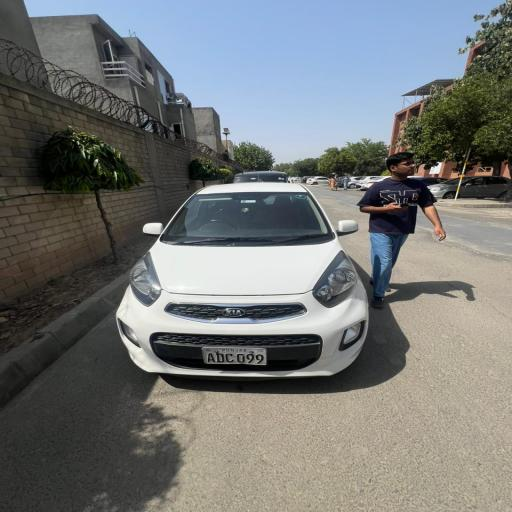bnu_sticker: (295, 194, 308, 199)
number_plate: (203, 348, 269, 366)
